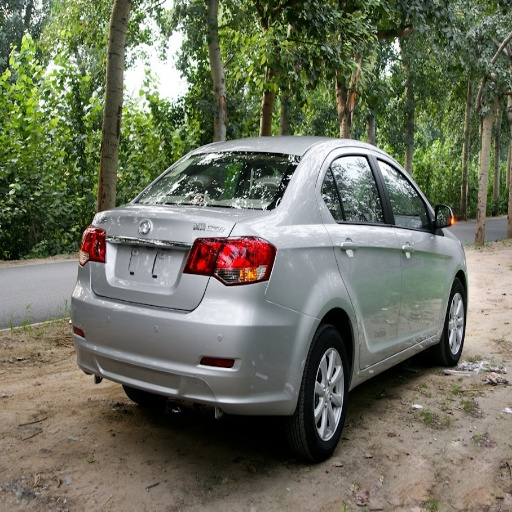back_bumper: (70, 266, 317, 413)
back_right_door: (320, 146, 401, 363)
